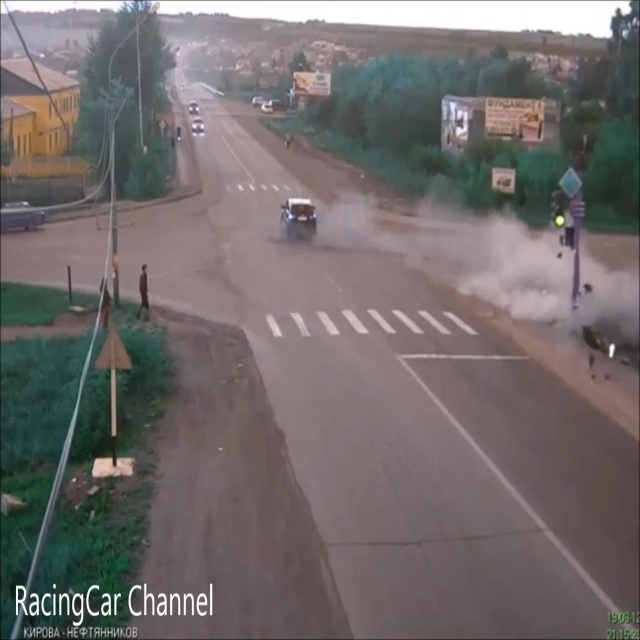acc: (514, 243, 640, 354)
